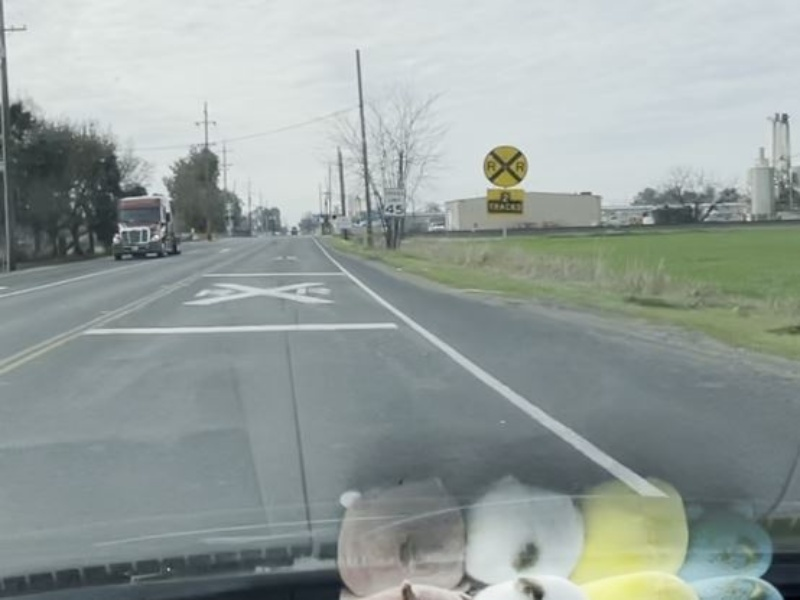railroad sign: (481, 145, 530, 188)
speed limit sign: (380, 187, 406, 218)
